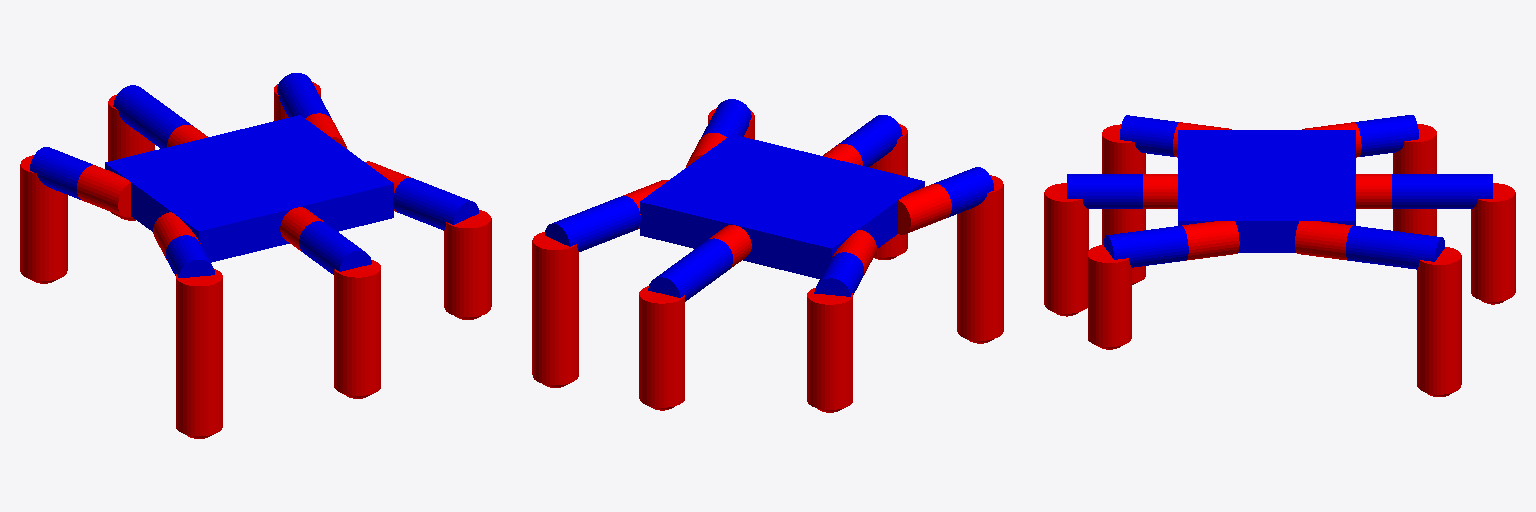
--- Render facts (derived) ---
Views: 3 orthographic renders of the robot side by side, from view 1: azimuth 30°, elevation 25°; view 2: azimuth 150°, elevation 25°; view 3: azimuth 270°, elevation 25°.
Robot: pexod — 19 links, 18 joints (18 revolute); root link base_link; default pose: every joint at zero.
Links seen in each view (by area): view 1: base_link, leg_5_3, leg_4_3, leg_0_3, leg_3_3, leg_3_2, leg_1_2, leg_4_2, leg_0_1, leg_0_2, leg_2_2, leg_1_3 (+3 smaller); view 2: base_link, leg_2_3, leg_5_3, leg_0_3, leg_1_3, leg_2_2, leg_1_2, leg_5_1, leg_4_2, leg_5_2, leg_0_2, leg_4_3 (+3 smaller); view 3: base_link, leg_2_3, leg_4_3, leg_1_3, leg_3_3, leg_1_2, leg_2_2, leg_5_3, leg_0_3, leg_3_2, leg_4_2, leg_0_2 (+5 smaller).
Link boxes in pixels (x1,y1,x2,y2): base_link: (105, 115, 393, 262); leg_5_3: (176, 269, 222, 438); leg_4_3: (334, 260, 380, 398); leg_0_3: (20, 155, 67, 283); leg_3_3: (444, 210, 491, 319); leg_3_2: (393, 178, 478, 230); leg_1_2: (113, 85, 192, 148); leg_4_2: (299, 221, 371, 274); leg_0_1: (77, 165, 130, 216); leg_0_2: (30, 147, 95, 199); leg_2_2: (277, 73, 331, 118); leg_1_3: (108, 95, 154, 220); base_link: (640, 134, 924, 278); leg_2_3: (532, 232, 578, 387); leg_5_3: (957, 175, 1003, 343); leg_0_3: (807, 288, 852, 412); leg_1_3: (639, 286, 684, 410); leg_2_2: (545, 196, 640, 251); leg_1_2: (648, 238, 732, 301); leg_5_1: (898, 184, 951, 234); leg_4_2: (836, 115, 902, 166); leg_5_2: (934, 167, 993, 217); leg_0_2: (814, 252, 863, 296); leg_4_3: (869, 123, 907, 259); base_link: (1178, 130, 1355, 252); leg_2_3: (1417, 247, 1461, 396); leg_4_3: (1044, 183, 1088, 316); leg_1_3: (1471, 183, 1515, 304); leg_3_3: (1088, 245, 1131, 349); leg_1_2: (1392, 174, 1492, 208); leg_2_2: (1346, 226, 1444, 269); leg_5_3: (1102, 124, 1145, 284); leg_0_3: (1393, 124, 1436, 235); leg_3_2: (1104, 226, 1188, 267); leg_4_2: (1067, 174, 1142, 208); leg_0_2: (1355, 115, 1418, 156).
Bounding box of the posed robot: 0.3764 × 0.5303 × 0.2081 m (x, y, z).
Geometry: primitives only (box / cylinder / sphere), no mesh files.

robot.urdf — pexod:
<?xml version="1.0" ?>
<!-- =================================================================================== -->
<!-- |    This document was autogenerated by xacro from pexod.xacro                    | -->
<!-- |    EDITING THIS FILE BY HAND IS NOT RECOMMENDED                                 | -->
<!-- =================================================================================== -->
<robot name="pexod" xmlns:xacro="http://www.ros.org/wiki/xacro">
  <!-- <xacro:include filename="$(find pexod_description)/urdf/pexod_control.xacro" /> -->
  <!-- MATERIALS -->
  <material name="Blue">
    <color rgba="0 0 1 1"/>
  </material>
  <material name="Red">
    <color rgba="1 0 0 1"/>
  </material>
  <material name="Green">
    <color rgba="0 1 0 1"/>
  </material>
  <material name="Yellow">
    <color rgba="1 1 0 1"/>
  </material>
  <material name="LightGrey">
    <color rgba="0.6 0.6 0.6 1.0"/>
  </material>
  <!-- END OF MATERIALS -->
  <!-- XACRO MACROS FOR VISUALS AND COLLISIONS -->
  <!-- END OF XACRO MACROS -->
  <!-- TORSO -->
  <link name="base_link">
    <visual>
      <origin rpy="0 0 0" xyz="0 0 0"/>
      <geometry>
        <box size="0.24 0.2 0.04"/>
      </geometry>
      <material name="Blue"/>
    </visual>
    <collision>
      <origin rpy="0 0 0" xyz="0 0 0"/>
      <geometry>
        <box size="0.24 0.2 0.04"/>
      </geometry>
    </collision>
    <inertial>
      <!-- CENTER OF MASS -->
      <origin rpy="0 0 0" xyz="0 0 0"/>
      <mass value="1.031"/>
      <!-- box inertia: 1/12*m(y^2+z^2), ... -->
      <inertia ixx="0.00357413333333" ixy="0" ixz="0" iyy="0.00508626666667" iyz="0" izz="0.00838546666667"/>
    </inertial>
  </link>
  <!-- XACRO MACRO FOR LEGS LINKS/JOINTS -->
  <!-- END OF LEG LINKS/JOINTS -->
  <joint name="body_leg_2" type="revolute">
    <parent link="base_link"/>
    <child link="leg_2_1"/>
    <limit effort="30.0" lower="-1.57079632679" upper="1.57079632679" velocity="7.0"/>
    <origin rpy="0 0 -0.3" xyz="0.11 0.04 0"/>
    <!-- <xacro:if value="${index == 5 or index == 4 or index == 3}">
                <axis xyz="0 0 1"/>
            </xacro:if>
            <xacro:if value="${index == 2 or index == 1 or index == 0}"> -->
    <axis xyz="0 0 1"/>
    <!-- </xacro:if> -->
    <dynamics damping="0.0"/>
  </joint>
  <link name="leg_2_1">
    <visual>
      <origin rpy="1.57079632679 0 0" xyz="0.01 0.03 0"/>
      <geometry>
        <cylinder length="0.06" radius="0.02"/>
      </geometry>
      <material name="Red"/>
    </visual>
    <collision>
      <origin rpy="1.57079632679 0 0" xyz="0.01 0.03 0"/>
      <geometry>
        <box size="0.02 0.02 0.06"/>
      </geometry>
    </collision>
    <inertial>
      <!-- CENTER OF MASS -->
      <origin rpy="1.57079632679 0 0" xyz="0.01 0.03 0"/>
      <mass value="0.02"/>
      <!-- box inertia: 1/12*m(y^2+z^2), ... -->
      <inertia ixx="6.66666666667e-06" ixy="0" ixz="0" iyy="6.66666666667e-06" iyz="0" izz="1.33333333333e-06"/>
    </inertial>
  </link>
  <joint name="leg_2_1_2" type="revolute">
    <parent link="leg_2_1"/>
    <child link="leg_2_2"/>
    <limit effort="30.0" lower="-0.78539816339" upper="0.78539816339" velocity="7.0"/>
    <origin rpy="0 0 0" xyz="0 0.06 0"/>
    <axis xyz="1 0 0"/>
    <dynamics damping="0.0"/>
  </joint>
  <link name="leg_2_2">
    <visual>
      <origin rpy="1.57079632679 0 0" xyz="0.01 0.0524248402635 0"/>
      <geometry>
        <cylinder length="0.104849680527" radius="0.02"/>
      </geometry>
      <material name="Blue"/>
    </visual>
    <collision>
      <origin rpy="1.57079632679 0 0" xyz="0.01 0.0524248402635 0"/>
      <geometry>
        <box size="0.02 0.02 0.104849680527"/>
      </geometry>
    </collision>
    <inertial>
      <!-- CENTER OF MASS -->
      <origin rpy="1.57079632679 0 0" xyz="0.01 0.0524248402635 0"/>
      <mass value="0.184"/>
      <!-- box inertia: 1/12*m(y^2+z^2), ... -->
      <inertia ixx="0.000174699651101" ixy="0" ixz="0" iyy="0.000174699651101" iyz="0" izz="1.22666666667e-05"/>
    </inertial>
  </link>
  <joint name="leg_2_2_3" type="revolute">
    <parent link="leg_2_2"/>
    <child link="leg_2_3"/>
    <limit effort="30.0" lower="-0.78539816339" upper="0.78539816339" velocity="7.0"/>
    <origin rpy="-1.57079632679 0 0" xyz="0 0.104849680527 0"/>
    <axis xyz="-1 0 0"/>
    <dynamics damping="0.0"/>
  </joint>
  <link name="leg_2_3">
    <visual>
      <origin rpy="1.57079632679 0 0" xyz="0.0125 0.0805387293275 0"/>
      <geometry>
        <cylinder length="0.161077458655" radius="0.025"/>
      </geometry>
      <material name="Red"/>
    </visual>
    <visual>
      <origin rpy="1.57079632679 0 0" xyz="0.0125 0.148577458655 0"/>
      <geometry>
        <sphere radius="0.025"/>
      </geometry>
      <material name="Red"/>
    </visual>
    <collision>
      <origin rpy="1.57079632679 0 0" xyz="0.0125 0.0805387293275 0"/>
      <geometry>
        <box size="0.025 0.025 0.161077458655"/>
      </geometry>
    </collision>
    <collision>
      <origin rpy="1.57079632679 0 0" xyz="0.0125 0.148577458655 0"/>
      <geometry>
        <sphere radius="0.025"/>
      </geometry>
      <material name="Red"/>
    </collision>
    <inertial>
      <!-- CENTER OF MASS -->
      <origin rpy="1.57079632679 0 0" xyz="0.0125 0.0805387293275 0"/>
      <mass value="0.04"/>
      <!-- box inertia: 1/12*m(y^2+z^2), ... -->
      <inertia ixx="8.85698256225e-05" ixy="0" ixz="0" iyy="8.85698256225e-05" iyz="0" izz="4.16666666667e-06"/>
    </inertial>
  </link>
  <joint name="body_leg_3" type="revolute">
    <parent link="base_link"/>
    <child link="leg_3_1"/>
    <limit effort="30.0" lower="-1.57079632679" upper="1.57079632679" velocity="7.0"/>
    <origin rpy="0 0 0.3" xyz="0.11 -0.04 0"/>
    <!-- <xacro:if value="${index == 5 or index == 4 or index == 3}">
                <axis xyz="0 0 1"/>
            </xacro:if>
            <xacro:if value="${index == 2 or index == 1 or index == 0}"> -->
    <axis xyz="0 0 1"/>
    <!-- </xacro:if> -->
    <dynamics damping="0.0"/>
  </joint>
  <link name="leg_3_1">
    <visual>
      <origin rpy="1.57079632679 0 0" xyz="0.01 -0.03 0"/>
      <geometry>
        <cylinder length="0.06" radius="0.02"/>
      </geometry>
      <material name="Red"/>
    </visual>
    <collision>
      <origin rpy="1.57079632679 0 0" xyz="0.01 -0.03 0"/>
      <geometry>
        <box size="0.02 0.02 0.06"/>
      </geometry>
    </collision>
    <inertial>
      <!-- CENTER OF MASS -->
      <origin rpy="1.57079632679 0 0" xyz="0.01 -0.03 0"/>
      <mass value="0.02"/>
      <!-- box inertia: 1/12*m(y^2+z^2), ... -->
      <inertia ixx="6.66666666667e-06" ixy="0" ixz="0" iyy="6.66666666667e-06" iyz="0" izz="1.33333333333e-06"/>
    </inertial>
  </link>
  <joint name="leg_3_1_2" type="revolute">
    <parent link="leg_3_1"/>
    <child link="leg_3_2"/>
    <limit effort="30.0" lower="-0.78539816339" upper="0.78539816339" velocity="7.0"/>
    <origin rpy="0 0 0" xyz="0 -0.06 0"/>
    <axis xyz="-1 0 0"/>
    <dynamics damping="0.0"/>
  </joint>
  <link name="leg_3_2">
    <visual>
      <origin rpy="1.57079632679 0 0" xyz="0.01 -0.0438711460838 0"/>
      <geometry>
        <cylinder length="0.0877422921676" radius="0.02"/>
      </geometry>
      <material name="Blue"/>
    </visual>
    <collision>
      <origin rpy="1.57079632679 0 0" xyz="0.01 -0.0438711460838 0"/>
      <geometry>
        <box size="0.02 0.02 0.0877422921676"/>
      </geometry>
    </collision>
    <inertial>
      <!-- CENTER OF MASS -->
      <origin rpy="1.57079632679 0 0" xyz="0.01 -0.0438711460838 0"/>
      <mass value="0.184"/>
      <!-- box inertia: 1/12*m(y^2+z^2), ... -->
      <inertia ixx="0.000124180217467" ixy="0" ixz="0" iyy="0.000124180217467" iyz="0" izz="1.22666666667e-05"/>
    </inertial>
  </link>
  <joint name="leg_3_2_3" type="revolute">
    <parent link="leg_3_2"/>
    <child link="leg_3_3"/>
    <limit effort="30.0" lower="-0.78539816339" upper="0.78539816339" velocity="7.0"/>
    <origin rpy="1.57079632679 0 0" xyz="0 -0.0877422921676 0"/>
    <axis xyz="1 0 0"/>
    <dynamics damping="0.0"/>
  </joint>
  <link name="leg_3_3">
    <visual>
      <origin rpy="1.57079632679 0 0" xyz="0.0125 -0.0521573499995 0"/>
      <geometry>
        <cylinder length="0.104314699999" radius="0.025"/>
      </geometry>
      <material name="Red"/>
    </visual>
    <visual>
      <origin rpy="1.57079632679 0 0" xyz="0.0125 -0.091814699999 0"/>
      <geometry>
        <sphere radius="0.025"/>
      </geometry>
      <material name="Red"/>
    </visual>
    <collision>
      <origin rpy="1.57079632679 0 0" xyz="0.0125 -0.0521573499995 0"/>
      <geometry>
        <box size="0.025 0.025 0.104314699999"/>
      </geometry>
    </collision>
    <collision>
      <origin rpy="1.57079632679 0 0" xyz="0.0125 -0.091814699999 0"/>
      <geometry>
        <sphere radius="0.025"/>
      </geometry>
      <material name="Red"/>
    </collision>
    <inertial>
      <!-- CENTER OF MASS -->
      <origin rpy="1.57079632679 0 0" xyz="0.0125 -0.0521573499995 0"/>
      <mass value="0.04"/>
      <!-- box inertia: 1/12*m(y^2+z^2), ... -->
      <inertia ixx="3.83551887863e-05" ixy="0" ixz="0" iyy="3.83551887863e-05" iyz="0" izz="4.16666666667e-06"/>
    </inertial>
  </link>
  <joint name="body_leg_0" type="revolute">
    <parent link="base_link"/>
    <child link="leg_0_1"/>
    <limit effort="30.0" lower="-1.57079632679" upper="1.57079632679" velocity="7.0"/>
    <origin rpy="0 0 0.3" xyz="-0.13 0.04 0"/>
    <!-- <xacro:if value="${index == 5 or index == 4 or index == 3}">
                <axis xyz="0 0 1"/>
            </xacro:if>
            <xacro:if value="${index == 2 or index == 1 or index == 0}"> -->
    <axis xyz="0 0 1"/>
    <!-- </xacro:if> -->
    <dynamics damping="0.0"/>
  </joint>
  <link name="leg_0_1">
    <visual>
      <origin rpy="1.57079632679 0 0" xyz="0.01 0.03 0"/>
      <geometry>
        <cylinder length="0.06" radius="0.02"/>
      </geometry>
      <material name="Red"/>
    </visual>
    <collision>
      <origin rpy="1.57079632679 0 0" xyz="0.01 0.03 0"/>
      <geometry>
        <box size="0.02 0.02 0.06"/>
      </geometry>
    </collision>
    <inertial>
      <!-- CENTER OF MASS -->
      <origin rpy="1.57079632679 0 0" xyz="0.01 0.03 0"/>
      <mass value="0.02"/>
      <!-- box inertia: 1/12*m(y^2+z^2), ... -->
      <inertia ixx="6.66666666667e-06" ixy="0" ixz="0" iyy="6.66666666667e-06" iyz="0" izz="1.33333333333e-06"/>
    </inertial>
  </link>
  <joint name="leg_0_1_2" type="revolute">
    <parent link="leg_0_1"/>
    <child link="leg_0_2"/>
    <limit effort="30.0" lower="-0.78539816339" upper="0.78539816339" velocity="7.0"/>
    <origin rpy="0 0 0" xyz="0 0.06 0"/>
    <axis xyz="1 0 0"/>
    <dynamics damping="0.0"/>
  </joint>
  <link name="leg_0_2">
    <visual>
      <origin rpy="1.57079632679 0 0" xyz="0.01 0.0341368624944 0"/>
      <geometry>
        <cylinder length="0.0682737249887" radius="0.02"/>
      </geometry>
      <material name="Blue"/>
    </visual>
    <collision>
      <origin rpy="1.57079632679 0 0" xyz="0.01 0.0341368624944 0"/>
      <geometry>
        <box size="0.02 0.02 0.0682737249887"/>
      </geometry>
    </collision>
    <inertial>
      <!-- CENTER OF MASS -->
      <origin rpy="1.57079632679 0 0" xyz="0.01 0.0341368624944 0"/>
      <mass value="0.184"/>
      <!-- box inertia: 1/12*m(y^2+z^2), ... -->
      <inertia ixx="7.76066233654e-05" ixy="0" ixz="0" iyy="7.76066233654e-05" iyz="0" izz="1.22666666667e-05"/>
    </inertial>
  </link>
  <joint name="leg_0_2_3" type="revolute">
    <parent link="leg_0_2"/>
    <child link="leg_0_3"/>
    <limit effort="30.0" lower="-0.78539816339" upper="0.78539816339" velocity="7.0"/>
    <origin rpy="-1.57079632679 0 0" xyz="0 0.0682737249887 0"/>
    <axis xyz="-1 0 0"/>
    <dynamics damping="0.0"/>
  </joint>
  <link name="leg_0_3">
    <visual>
      <origin rpy="1.57079632679 0 0" xyz="0.0125 0.062723526506 0"/>
      <geometry>
        <cylinder length="0.125447053012" radius="0.025"/>
      </geometry>
      <material name="Red"/>
    </visual>
    <visual>
      <origin rpy="1.57079632679 0 0" xyz="0.0125 0.112947053012 0"/>
      <geometry>
        <sphere radius="0.025"/>
      </geometry>
      <material name="Red"/>
    </visual>
    <collision>
      <origin rpy="1.57079632679 0 0" xyz="0.0125 0.062723526506 0"/>
      <geometry>
        <box size="0.025 0.025 0.125447053012"/>
      </geometry>
    </collision>
    <collision>
      <origin rpy="1.57079632679 0 0" xyz="0.0125 0.112947053012 0"/>
      <geometry>
        <sphere radius="0.025"/>
      </geometry>
      <material name="Red"/>
    </collision>
    <inertial>
      <!-- CENTER OF MASS -->
      <origin rpy="1.57079632679 0 0" xyz="0.0125 0.062723526506 0"/>
      <mass value="0.04"/>
      <!-- box inertia: 1/12*m(y^2+z^2), ... -->
      <inertia ixx="5.45398770313e-05" ixy="0" ixz="0" iyy="5.45398770313e-05" iyz="0" izz="4.16666666667e-06"/>
    </inertial>
  </link>
  <joint name="body_leg_5" type="revolute">
    <parent link="base_link"/>
    <child link="leg_5_1"/>
    <limit effort="30.0" lower="-1.57079632679" upper="1.57079632679" velocity="7.0"/>
    <origin rpy="0 0 -0.3" xyz="-0.13 -0.04 0"/>
    <!-- <xacro:if value="${index == 5 or index == 4 or index == 3}">
                <axis xyz="0 0 1"/>
            </xacro:if>
            <xacro:if value="${index == 2 or index == 1 or index == 0}"> -->
    <axis xyz="0 0 1"/>
    <!-- </xacro:if> -->
    <dynamics damping="0.0"/>
  </joint>
  <link name="leg_5_1">
    <visual>
      <origin rpy="1.57079632679 0 0" xyz="0.01 -0.03 0"/>
      <geometry>
        <cylinder length="0.06" radius="0.02"/>
      </geometry>
      <material name="Red"/>
    </visual>
    <collision>
      <origin rpy="1.57079632679 0 0" xyz="0.01 -0.03 0"/>
      <geometry>
        <box size="0.02 0.02 0.06"/>
      </geometry>
    </collision>
    <inertial>
      <!-- CENTER OF MASS -->
      <origin rpy="1.57079632679 0 0" xyz="0.01 -0.03 0"/>
      <mass value="0.02"/>
      <!-- box inertia: 1/12*m(y^2+z^2), ... -->
      <inertia ixx="6.66666666667e-06" ixy="0" ixz="0" iyy="6.66666666667e-06" iyz="0" izz="1.33333333333e-06"/>
    </inertial>
  </link>
  <joint name="leg_5_1_2" type="revolute">
    <parent link="leg_5_1"/>
    <child link="leg_5_2"/>
    <limit effort="30.0" lower="-0.78539816339" upper="0.78539816339" velocity="7.0"/>
    <origin rpy="0 0 0" xyz="0 -0.06 0"/>
    <axis xyz="-1 0 0"/>
    <dynamics damping="0.0"/>
  </joint>
  <link name="leg_5_2">
    <visual>
      <origin rpy="1.57079632679 0 0" xyz="0.01 -0.0314604074092 0"/>
      <geometry>
        <cylinder length="0.0629208148183" radius="0.02"/>
      </geometry>
      <material name="Blue"/>
    </visual>
    <collision>
      <origin rpy="1.57079632679 0 0" xyz="0.01 -0.0314604074092 0"/>
      <geometry>
        <box size="0.02 0.02 0.0629208148183"/>
      </geometry>
    </collision>
    <inertial>
      <!-- CENTER OF MASS -->
      <origin rpy="1.57079632679 0 0" xyz="0.01 -0.0314604074092 0"/>
      <mass value="0.184"/>
      <!-- box inertia: 1/12*m(y^2+z^2), ... -->
      <inertia ixx="6.68384437068e-05" ixy="0" ixz="0" iyy="6.68384437068e-05" iyz="0" izz="1.22666666667e-05"/>
    </inertial>
  </link>
  <joint name="leg_5_2_3" type="revolute">
    <parent link="leg_5_2"/>
    <child link="leg_5_3"/>
    <limit effort="30.0" lower="-0.78539816339" upper="0.78539816339" velocity="7.0"/>
    <origin rpy="1.57079632679 0 0" xyz="0 -0.0629208148183 0"/>
    <axis xyz="1 0 0"/>
    <dynamics damping="0.0"/>
  </joint>
  <link name="leg_5_3">
    <visual>
      <origin rpy="1.57079632679 0 0" xyz="0.0125 -0.0878032270395 0"/>
      <geometry>
        <cylinder length="0.175606454079" radius="0.025"/>
      </geometry>
      <material name="Red"/>
    </visual>
    <visual>
      <origin rpy="1.57079632679 0 0" xyz="0.0125 -0.163106454079 0"/>
      <geometry>
        <sphere radius="0.025"/>
      </geometry>
      <material name="Red"/>
    </visual>
    <collision>
      <origin rpy="1.57079632679 0 0" xyz="0.0125 -0.0878032270395 0"/>
      <geometry>
        <box size="0.025 0.025 0.175606454079"/>
      </geometry>
    </collision>
    <collision>
      <origin rpy="1.57079632679 0 0" xyz="0.0125 -0.163106454079 0"/>
      <geometry>
        <sphere radius="0.025"/>
      </geometry>
      <material name="Red"/>
    </collision>
    <inertial>
      <!-- CENTER OF MASS -->
      <origin rpy="1.57079632679 0 0" xyz="0.0125 -0.0878032270395 0"/>
      <mass value="0.04"/>
      <!-- box inertia: 1/12*m(y^2+z^2), ... -->
      <inertia ixx="0.000104875422381" ixy="0" ixz="0" iyy="0.000104875422381" iyz="0" izz="4.16666666667e-06"/>
    </inertial>
  </link>
  <joint name="body_leg_1" type="revolute">
    <parent link="base_link"/>
    <child link="leg_1_1"/>
    <limit effort="30.0" lower="-1.57079632679" upper="1.57079632679" velocity="7.0"/>
    <origin rpy="0 0 0" xyz="-0.01 0.08 0"/>
    <!-- <xacro:if value="${index == 5 or index == 4 or index == 3}">
                <axis xyz="0 0 1"/>
            </xacro:if>
            <xacro:if value="${index == 2 or index == 1 or index == 0}"> -->
    <axis xyz="0 0 1"/>
    <!-- </xacro:if> -->
    <dynamics damping="0.0"/>
  </joint>
  <link name="leg_1_1">
    <visual>
      <origin rpy="1.57079632679 0 0" xyz="0.01 0.03 0"/>
      <geometry>
        <cylinder length="0.06" radius="0.02"/>
      </geometry>
      <material name="Red"/>
    </visual>
    <collision>
      <origin rpy="1.57079632679 0 0" xyz="0.01 0.03 0"/>
      <geometry>
        <box size="0.02 0.02 0.06"/>
      </geometry>
    </collision>
    <inertial>
      <!-- CENTER OF MASS -->
      <origin rpy="1.57079632679 0 0" xyz="0.01 0.03 0"/>
      <mass value="0.02"/>
      <!-- box inertia: 1/12*m(y^2+z^2), ... -->
      <inertia ixx="6.66666666667e-06" ixy="0" ixz="0" iyy="6.66666666667e-06" iyz="0" izz="1.33333333333e-06"/>
    </inertial>
  </link>
  <joint name="leg_1_1_2" type="revolute">
    <parent link="leg_1_1"/>
    <child link="leg_1_2"/>
    <limit effort="30.0" lower="-0.78539816339" upper="0.78539816339" velocity="7.0"/>
    <origin rpy="0 0 0" xyz="0 0.06 0"/>
    <axis xyz="1 0 0"/>
    <dynamics damping="0.0"/>
  </joint>
  <link name="leg_1_2">
    <visual>
      <origin rpy="1.57079632679 0 0" xyz="0.01 0.057244166864 0"/>
      <geometry>
        <cylinder length="0.114488333728" radius="0.02"/>
      </geometry>
      <material name="Blue"/>
    </visual>
    <collision>
      <origin rpy="1.57079632679 0 0" xyz="0.01 0.057244166864 0"/>
      <geometry>
        <box size="0.02 0.02 0.114488333728"/>
      </geometry>
    </collision>
    <inertial>
      <!-- CENTER OF MASS -->
      <origin rpy="1.57079632679 0 0" xyz="0.01 0.057244166864 0"/>
      <mass value="0.184"/>
      <!-- box inertia: 1/12*m(y^2+z^2), ... -->
      <inertia ixx="0.000207116204584" ixy="0" ixz="0" iyy="0.000207116204584" iyz="0" izz="1.22666666667e-05"/>
    </inertial>
  </link>
  <joint name="leg_1_2_3" type="revolute">
    <parent link="leg_1_2"/>
    <child link="leg_1_3"/>
    <limit effort="30.0" lower="-0.78539816339" upper="0.78539816339" velocity="7.0"/>
    <origin rpy="-1.57079632679 0 0" xyz="0 0.114488333728 0"/>
    <axis xyz="-1 0 0"/>
    <dynamics damping="0.0"/>
  </joint>
  <link name="leg_1_3">
    <visual>
      <origin rpy="1.57079632679 0 0" xyz="0.0125 0.0620656439655 0"/>
      <geometry>
        <cylinder length="0.124131287931" radius="0.025"/>
      </geometry>
      <material name="Red"/>
    </visual>
    <visual>
      <origin rpy="1.57079632679 0 0" xyz="0.0125 0.111631287931 0"/>
      <geometry>
        <sphere radius="0.025"/>
      </geometry>
      <material name="Red"/>
    </visual>
    <collision>
      <origin rpy="1.57079632679 0 0" xyz="0.0125 0.0620656439655 0"/>
      <geometry>
        <box size="0.025 0.025 0.124131287931"/>
      </geometry>
    </collision>
    <collision>
      <origin rpy="1.57079632679 0 0" xyz="0.0125 0.111631287931 0"/>
      <geometry>
        <sphere radius="0.025"/>
      </geometry>
      <material name="Red"/>
    </collision>
    <inertial>
      <!-- CENTER OF MASS -->
      <origin rpy="1.57079632679 0 0" xyz="0.0125 0.0620656439655 0"/>
      <mass value="0.04"/>
      <!-- box inertia: 1/12*m(y^2+z^2), ... -->
      <inertia ixx="5.3445255478e-05" ixy="0" ixz="0" iyy="5.3445255478e-05" iyz="0" izz="4.16666666667e-06"/>
    </inertial>
  </link>
  <joint name="body_leg_4" type="revolute">
    <parent link="base_link"/>
    <child link="leg_4_1"/>
    <limit effort="30.0" lower="-1.57079632679" upper="1.57079632679" velocity="7.0"/>
    <origin rpy="0 0 0" xyz="-0.01 -0.08 0"/>
    <!-- <xacro:if value="${index == 5 or index == 4 or index == 3}">
                <axis xyz="0 0 1"/>
            </xacro:if>
            <xacro:if value="${index == 2 or index == 1 or index == 0}"> -->
    <axis xyz="0 0 1"/>
    <!-- </xacro:if> -->
    <dynamics damping="0.0"/>
  </joint>
  <link name="leg_4_1">
    <visual>
      <origin rpy="1.57079632679 0 0" xyz="0.01 -0.03 0"/>
      <geometry>
        <cylinder length="0.06" radius="0.02"/>
      </geometry>
      <material name="Red"/>
    </visual>
    <collision>
      <origin rpy="1.57079632679 0 0" xyz="0.01 -0.03 0"/>
      <geometry>
        <box size="0.02 0.02 0.06"/>
      </geometry>
    </collision>
    <inertial>
      <!-- CENTER OF MASS -->
      <origin rpy="1.57079632679 0 0" xyz="0.01 -0.03 0"/>
      <mass value="0.02"/>
      <!-- box inertia: 1/12*m(y^2+z^2), ... -->
      <inertia ixx="6.66666666667e-06" ixy="0" ixz="0" iyy="6.66666666667e-06" iyz="0" izz="1.33333333333e-06"/>
    </inertial>
  </link>
  <joint name="leg_4_1_2" type="revolute">
    <parent link="leg_4_1"/>
    <child link="leg_4_2"/>
    <limit effort="30.0" lower="-0.78539816339" upper="0.78539816339" velocity="7.0"/>
    <origin rpy="0 0 0" xyz="0 -0.06 0"/>
    <axis xyz="-1 0 0"/>
    <dynamics damping="0.0"/>
  </joint>
  <link name="leg_4_2">
    <visual>
      <origin rpy="1.57079632679 0 0" xyz="0.01 -0.0428905608149 0"/>
      <geometry>
        <cylinder length="0.0857811216298" radius="0.02"/>
      </geometry>
      <material name="Blue"/>
    </visual>
    <collision>
      <origin rpy="1.57079632679 0 0" xyz="0.01 -0.0428905608149 0"/>
      <geometry>
        <box size="0.02 0.02 0.0857811216298"/>
      </geometry>
    </collision>
    <inertial>
      <!-- CENTER OF MASS -->
      <origin rpy="1.57079632679 0 0" xyz="0.01 -0.0428905608149 0"/>
      <mass value="0.184"/>
      <!-- box inertia: 1/12*m(y^2+z^2), ... -->
      <inertia ixx="0.00011896214603" ixy="0" ixz="0" iyy="0.00011896214603" iyz="0" izz="1.22666666667e-05"/>
    </inertial>
  </link>
  <joint name="leg_4_2_3" type="revolute">
    <parent link="leg_4_2"/>
    <child link="leg_4_3"/>
    <limit effort="30.0" lower="-0.78539816339" upper="0.78539816339" velocity="7.0"/>
    <origin rpy="1.57079632679 0 0" xyz="0 -0.0857811216298 0"/>
    <axis xyz="1 0 0"/>
    <dynamics damping="0.0"/>
  </joint>
  <link name="leg_4_3">
    <visual>
      <origin rpy="1.57079632679 0 0" xyz="0.0125 -0.0694841961875 0"/>
      <geometry>
        <cylinder length="0.138968392375" radius="0.025"/>
      </geometry>
      <material name="Red"/>
    </visual>
    <visual>
      <origin rpy="1.57079632679 0 0" xyz="0.0125 -0.126468392375 0"/>
      <geometry>
        <sphere radius="0.025"/>
      </geometry>
      <material name="Red"/>
    </visual>
    <collision>
      <origin rpy="1.57079632679 0 0" xyz="0.0125 -0.0694841961875 0"/>
      <geometry>
        <box size="0.025 0.025 0.138968392375"/>
      </geometry>
    </collision>
    <collision>
      <origin rpy="1.57079632679 0 0" xyz="0.0125 -0.126468392375 0"/>
      <geometry>
        <sphere radius="0.025"/>
      </geometry>
      <material name="Red"/>
    </collision>
    <inertial>
      <!-- CENTER OF MASS -->
      <origin rpy="1.57079632679 0 0" xyz="0.0125 -0.0694841961875 0"/>
      <mass value="0.04"/>
      <!-- box inertia: 1/12*m(y^2+z^2), ... -->
      <inertia ixx="6.64573802643e-05" ixy="0" ixz="0" iyy="6.64573802643e-05" iyz="0" izz="4.16666666667e-06"/>
    </inertial>
  </link>
  <!-- END OF LEG LINKS/JOINTS -->
</robot>
